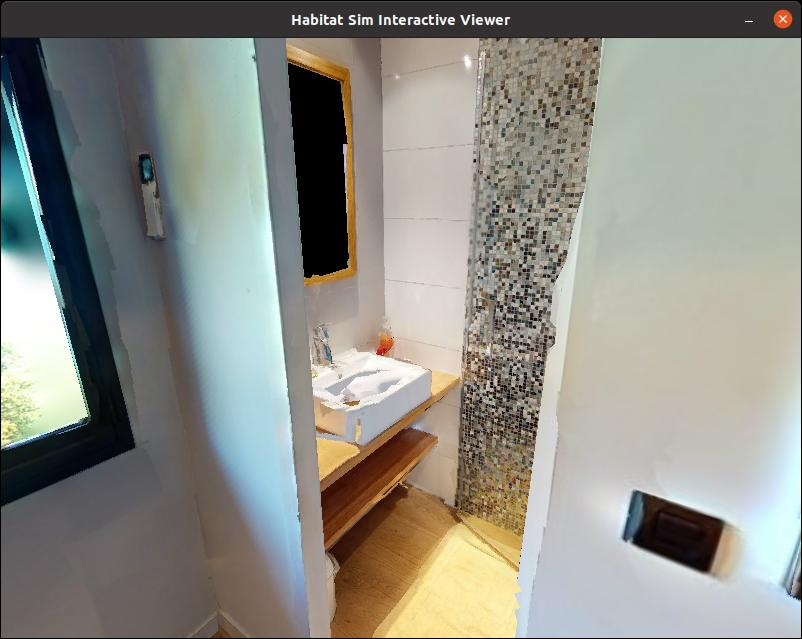door-frame: (245, 39, 606, 635)
sink: (305, 329, 432, 462)
